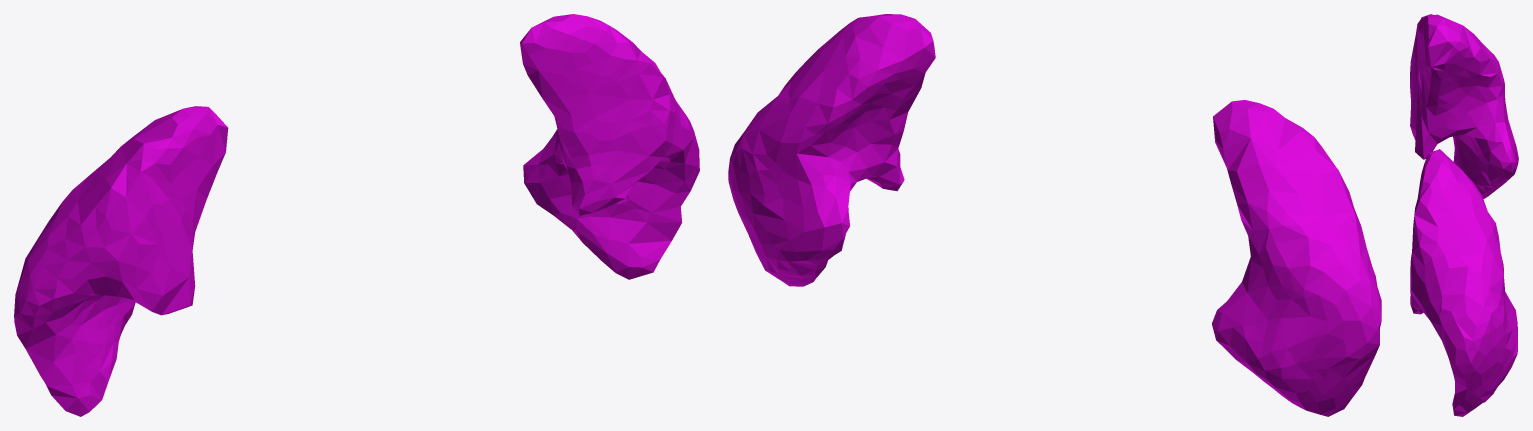
Rendered from 202-Lpul-lateral pulvinar-('1.0000', '0.0000', '1.0000').obj.
The picture shows the model from 3 angles, left to right: view 1: azimuth 30°, elevation 25°; view 2: azimuth 150°, elevation 25°; view 3: azimuth 270°, elevation 25°; orthographic projection. The views are drawn at different scales.
Bounding box in the file's own units: 168 × 69.21 × 30.33.
